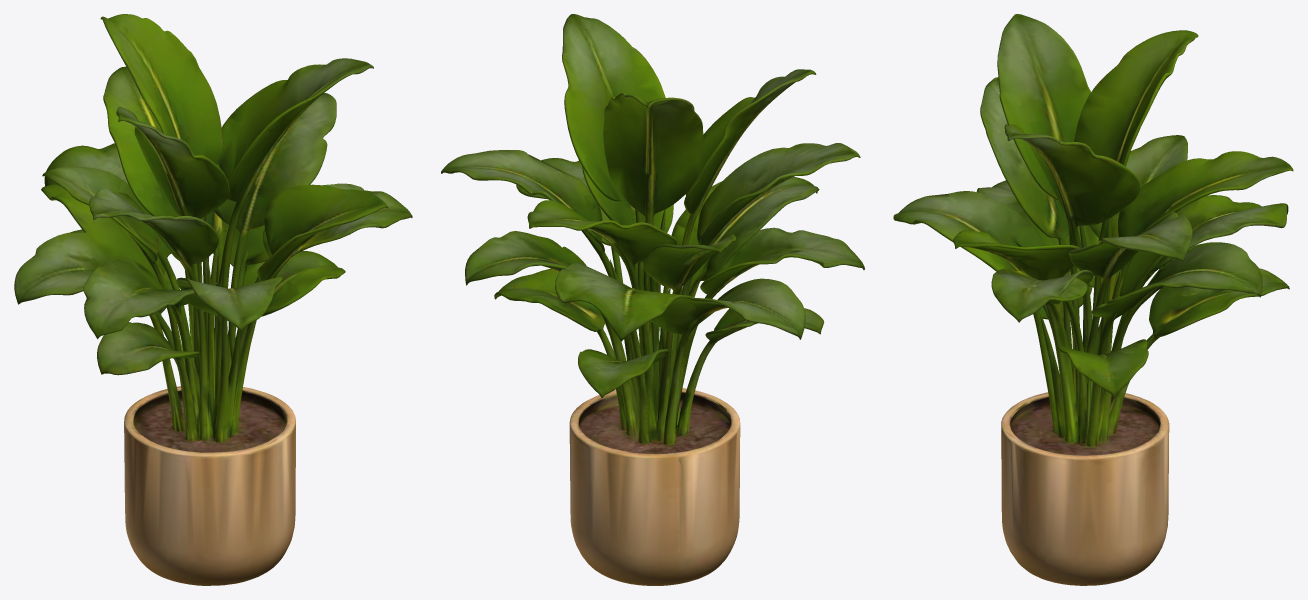
The model's file is plant2.glb.
3 renders of one model, left to right at view 1: azimuth 30°, elevation 25°; view 2: azimuth 150°, elevation 25°; view 3: azimuth 270°, elevation 25°, orthographic. The views are drawn at different scales.
Parts seen in each view (by area): view 1: node_0; view 2: node_0; view 3: node_0.
Boxes of the visible parts, box(x1,y1,x2,y2) form: node_0: box(14, 14, 412, 585); node_0: box(441, 14, 864, 585); node_0: box(893, 14, 1293, 585).
Size of the model in its own units: 0.7525 by 1.1 by 0.7878.
1 material, 1 textured.
